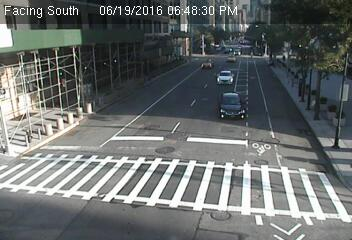neg: (283, 175, 314, 216), (136, 102, 166, 142), (69, 75, 98, 113), (65, 139, 90, 173), (32, 96, 57, 129), (318, 124, 341, 156), (223, 86, 246, 117), (297, 77, 319, 107), (204, 181, 225, 208), (153, 183, 173, 210), (272, 123, 292, 149), (265, 46, 282, 69), (192, 43, 209, 66), (240, 36, 257, 58), (57, 183, 73, 205), (195, 152, 210, 173), (137, 45, 152, 66)
